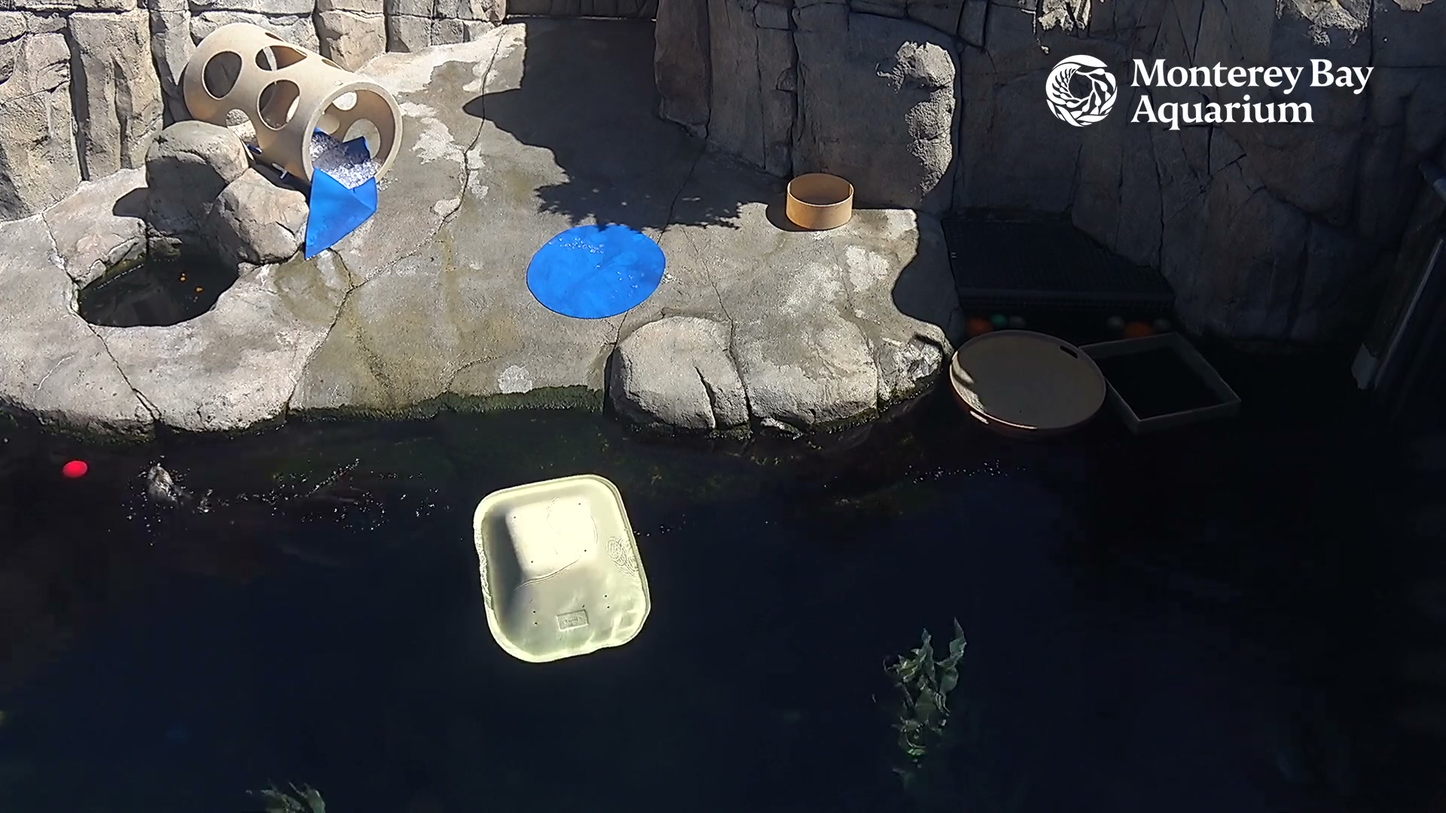Southern Sea Otter: (107, 412, 447, 575)
